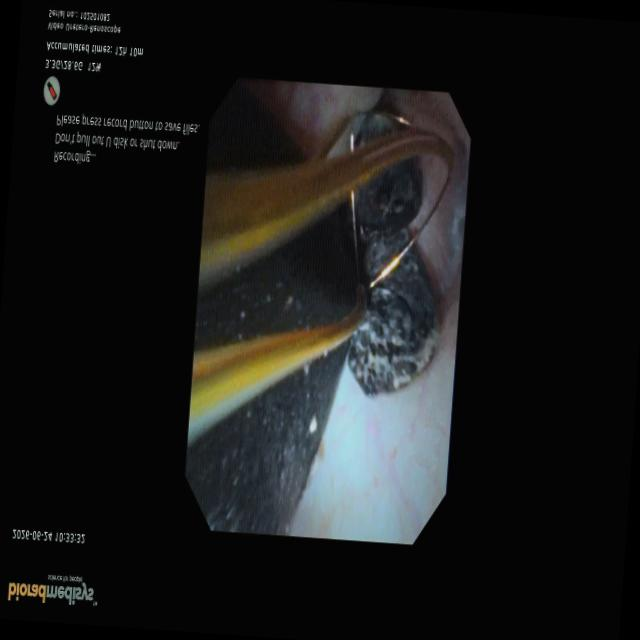stone-new: (185, 342, 347, 535), (194, 206, 357, 349), (349, 275, 433, 395), (207, 83, 302, 172), (354, 158, 422, 280), (352, 112, 398, 150), (399, 251, 417, 279)
